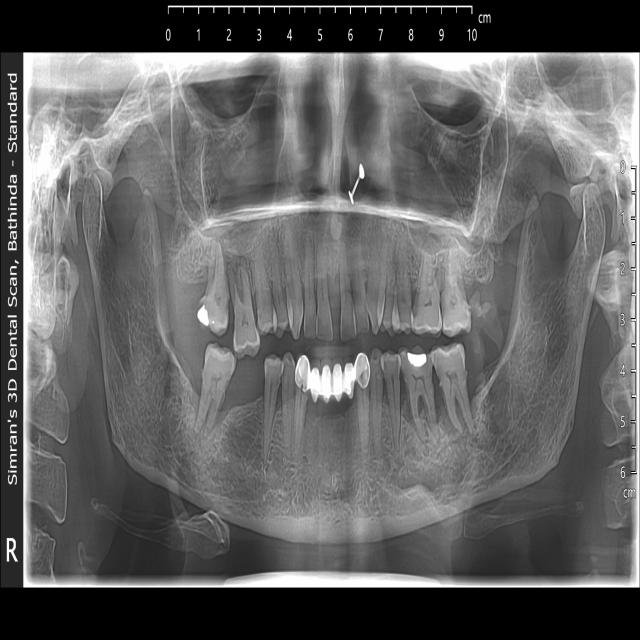Caries: (408, 292, 442, 333)
Crown: (296, 352, 370, 402)
Filling: (407, 352, 427, 370), (197, 303, 209, 326)
Missing teeth: (310, 406, 354, 449), (229, 381, 260, 438)
Periapical lesion: (227, 257, 249, 310)
